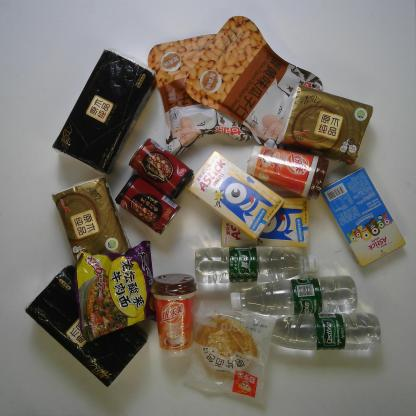Canned Food: (113, 172, 182, 236), (127, 138, 195, 200)
Dessert: (180, 295, 278, 406), (183, 150, 286, 243), (321, 167, 407, 268), (220, 197, 311, 248)
Dried Fruit: (184, 13, 324, 154), (146, 33, 254, 156)
Drink: (240, 310, 384, 352), (229, 275, 359, 316), (194, 245, 320, 284)
Instant Drink: (245, 143, 329, 202), (149, 272, 198, 359)
Instant Noodles: (73, 239, 158, 342)
Tissue: (24, 262, 151, 389), (50, 46, 161, 175), (50, 173, 134, 285), (275, 82, 376, 166)
